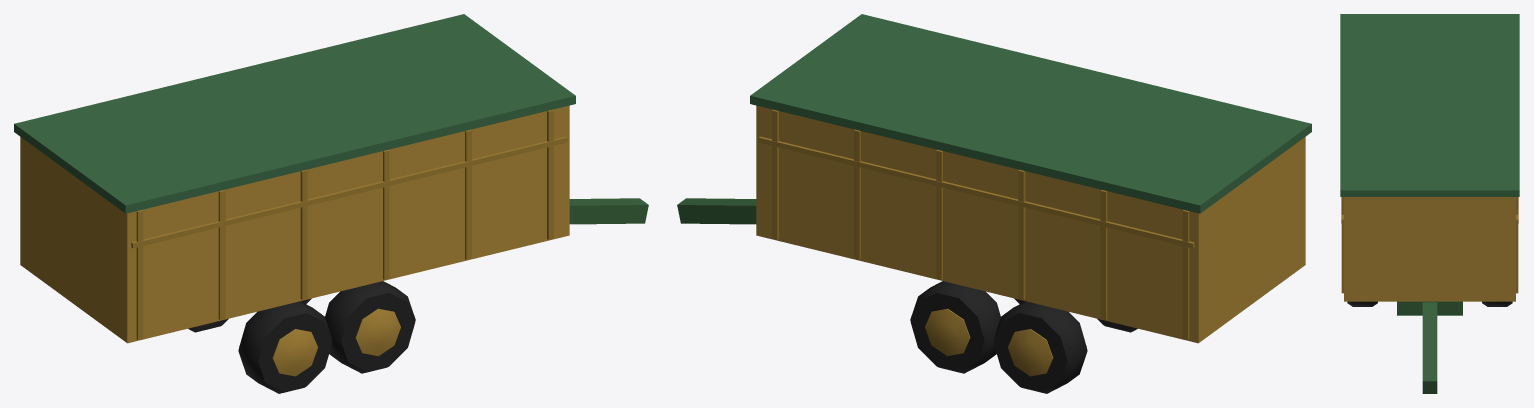
Rendered from SM_Prop_farm_tipper_0_LOD1.glb.
The picture shows the model from 3 angles, left to right: view 1: azimuth 30°, elevation 25°; view 2: azimuth 150°, elevation 25°; view 3: azimuth 270°, elevation 25°; orthographic projection. The views are drawn at different scales.
Visible parts, largest first — view 1: SM_Prop_farm_tipper_0_LOD1; view 2: SM_Prop_farm_tipper_0_LOD1; view 3: SM_Prop_farm_tipper_0_LOD1.
Boxes of the visible parts, left/top/right/bottom form: SM_Prop_farm_tipper_0_LOD1: left=14, top=14, right=648, bottom=393; SM_Prop_farm_tipper_0_LOD1: left=677, top=14, right=1311, bottom=393; SM_Prop_farm_tipper_0_LOD1: left=1340, top=14, right=1519, bottom=393.
Size of the model in its own units: 7.27 by 2.82 by 2.45.
